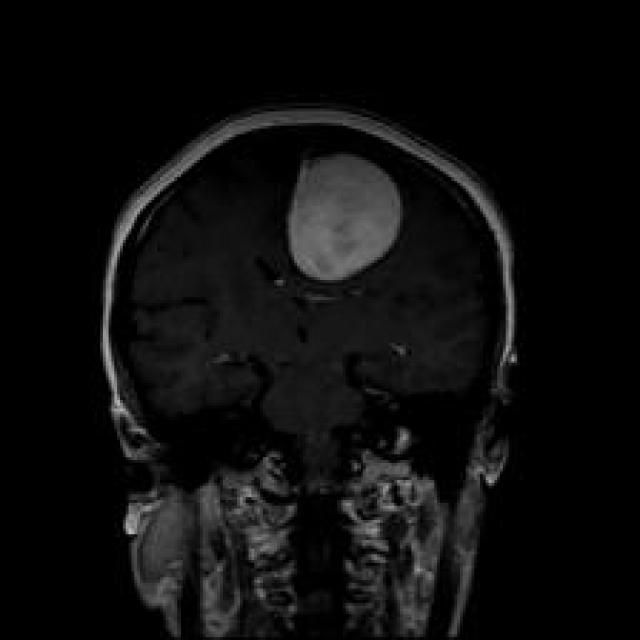meningioma_tumor: (280, 142, 411, 294)
